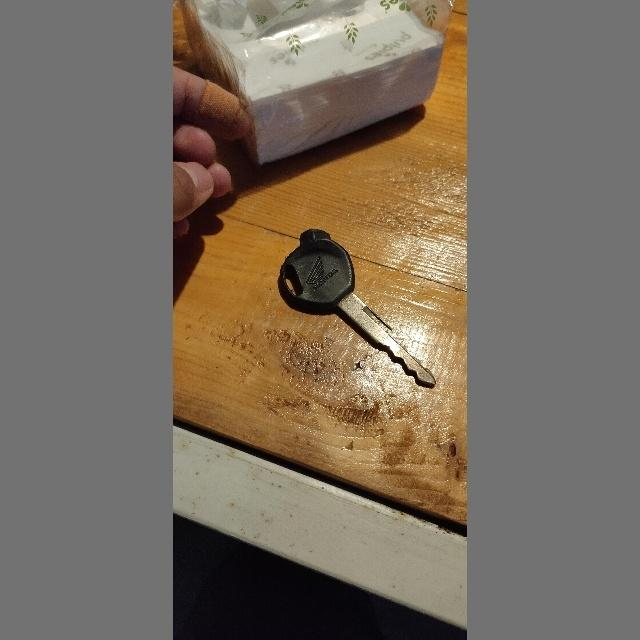Keys: (270, 226, 442, 390)
